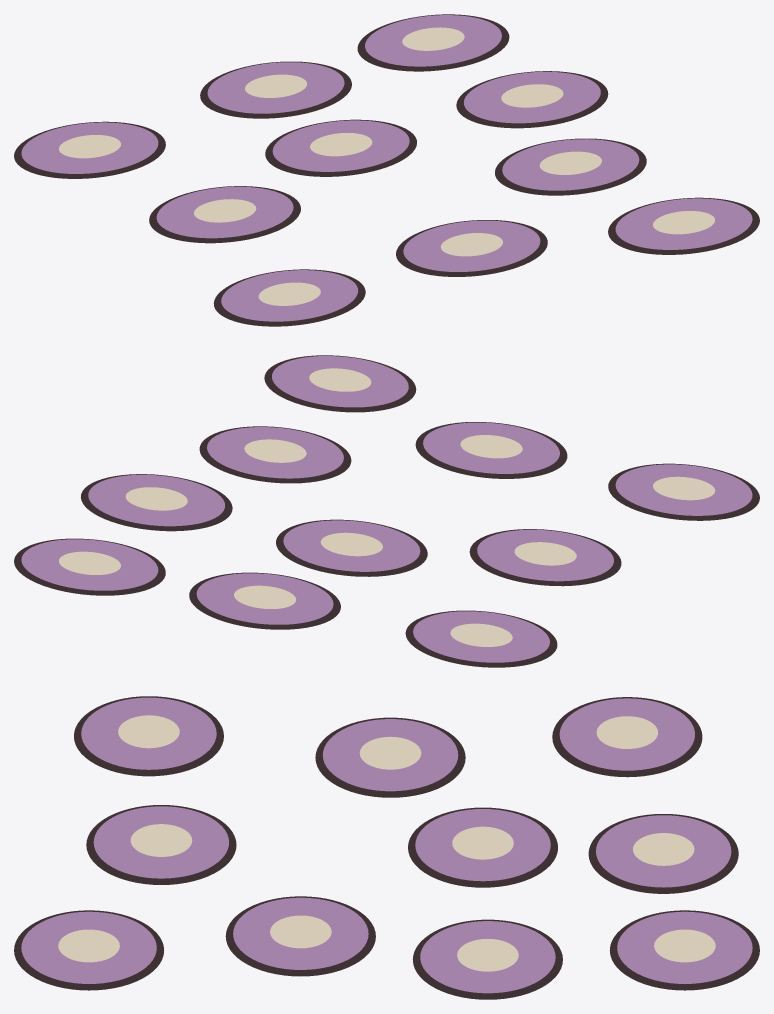
The model's file is good_pizza_single_scene1.fbx.
The picture shows the model from 3 angles, top to bottom: view 1: azimuth 30°, elevation 25°; view 2: azimuth 150°, elevation 25°; view 3: azimuth 270°, elevation 25°; orthographic projection. The views are drawn at different scales.
Parts seen in each view (by area): view 1: bin_onion_on1_ol.008; view 2: bin_onion_on1_ol.008; view 3: bin_onion_on1_ol.008.
Part boxes in pixels (<box>): bin_onion_on1_ol.008: <box>14,14,759,326</box>; bin_onion_on1_ol.008: <box>14,355,759,667</box>; bin_onion_on1_ol.008: <box>14,696,759,999</box>.
Bounding box in the file's own units: 204 × 1.4 × 212.
